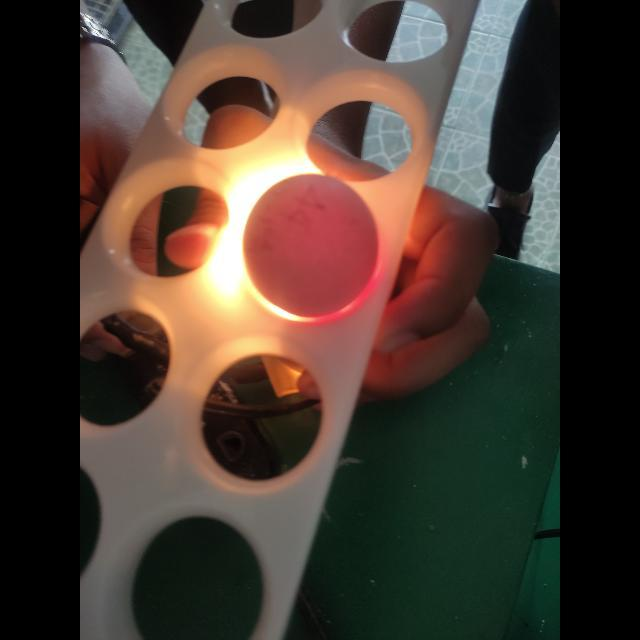Fertile: (243, 170, 384, 324)
